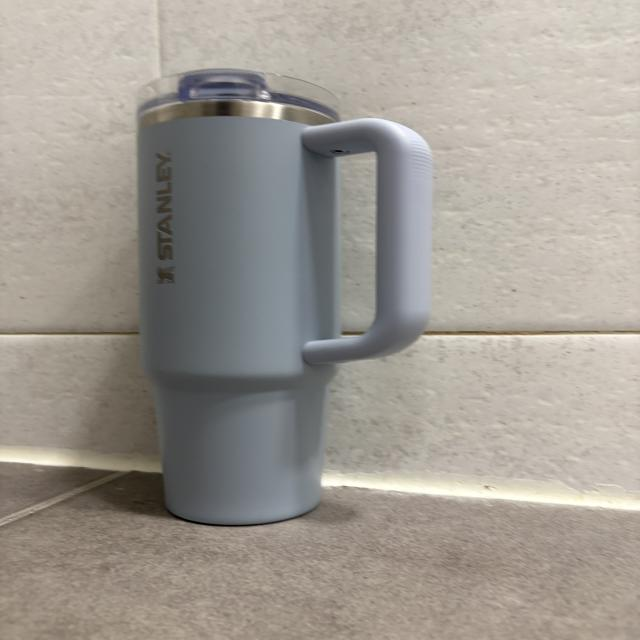waterbottle: (139, 68, 434, 526)
